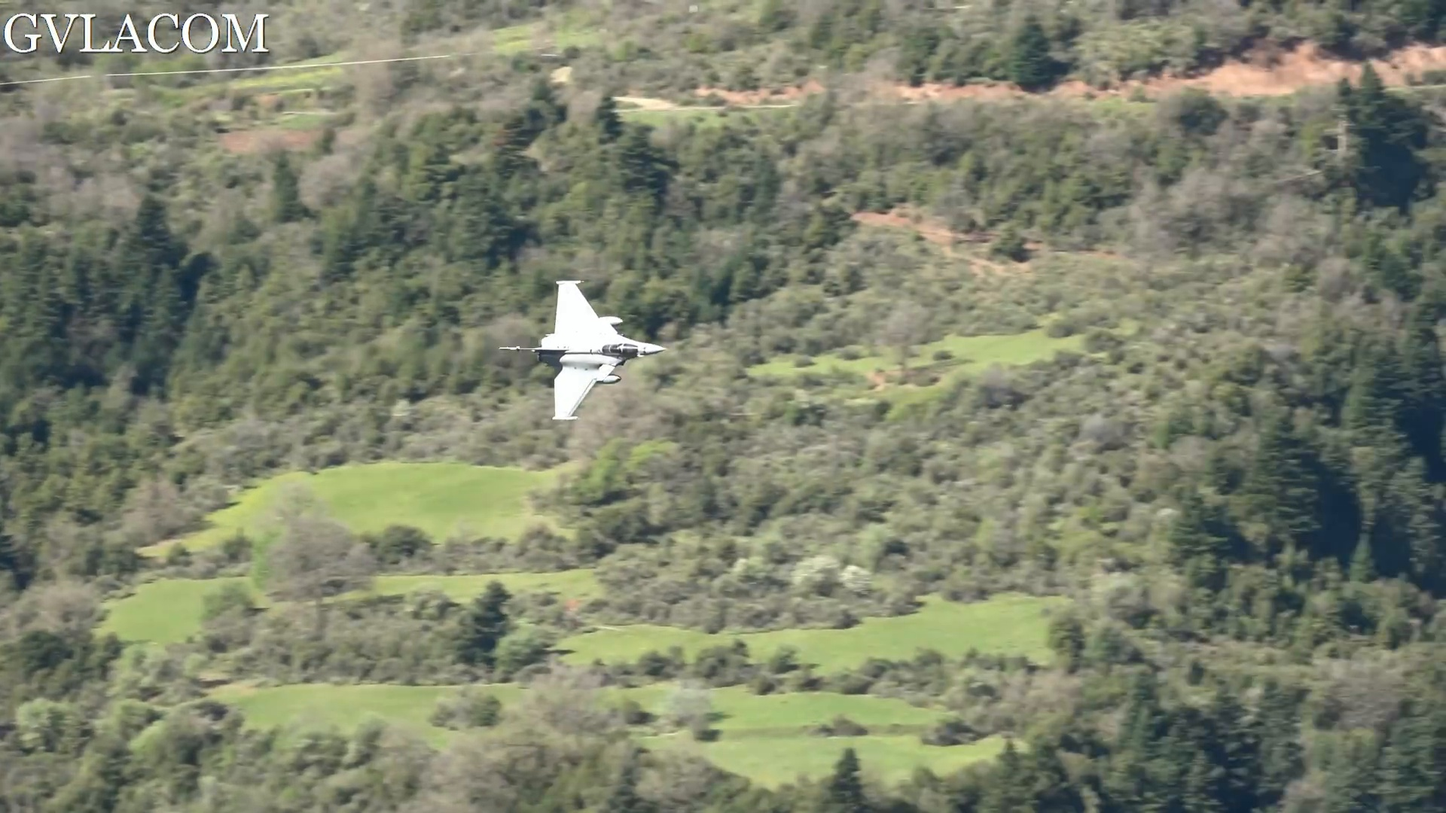Rafale: (497, 279, 667, 422)
